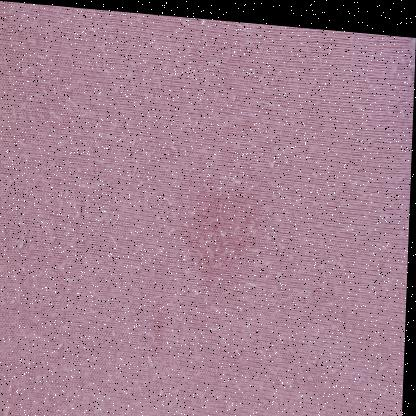spot: (188, 174, 265, 291)
